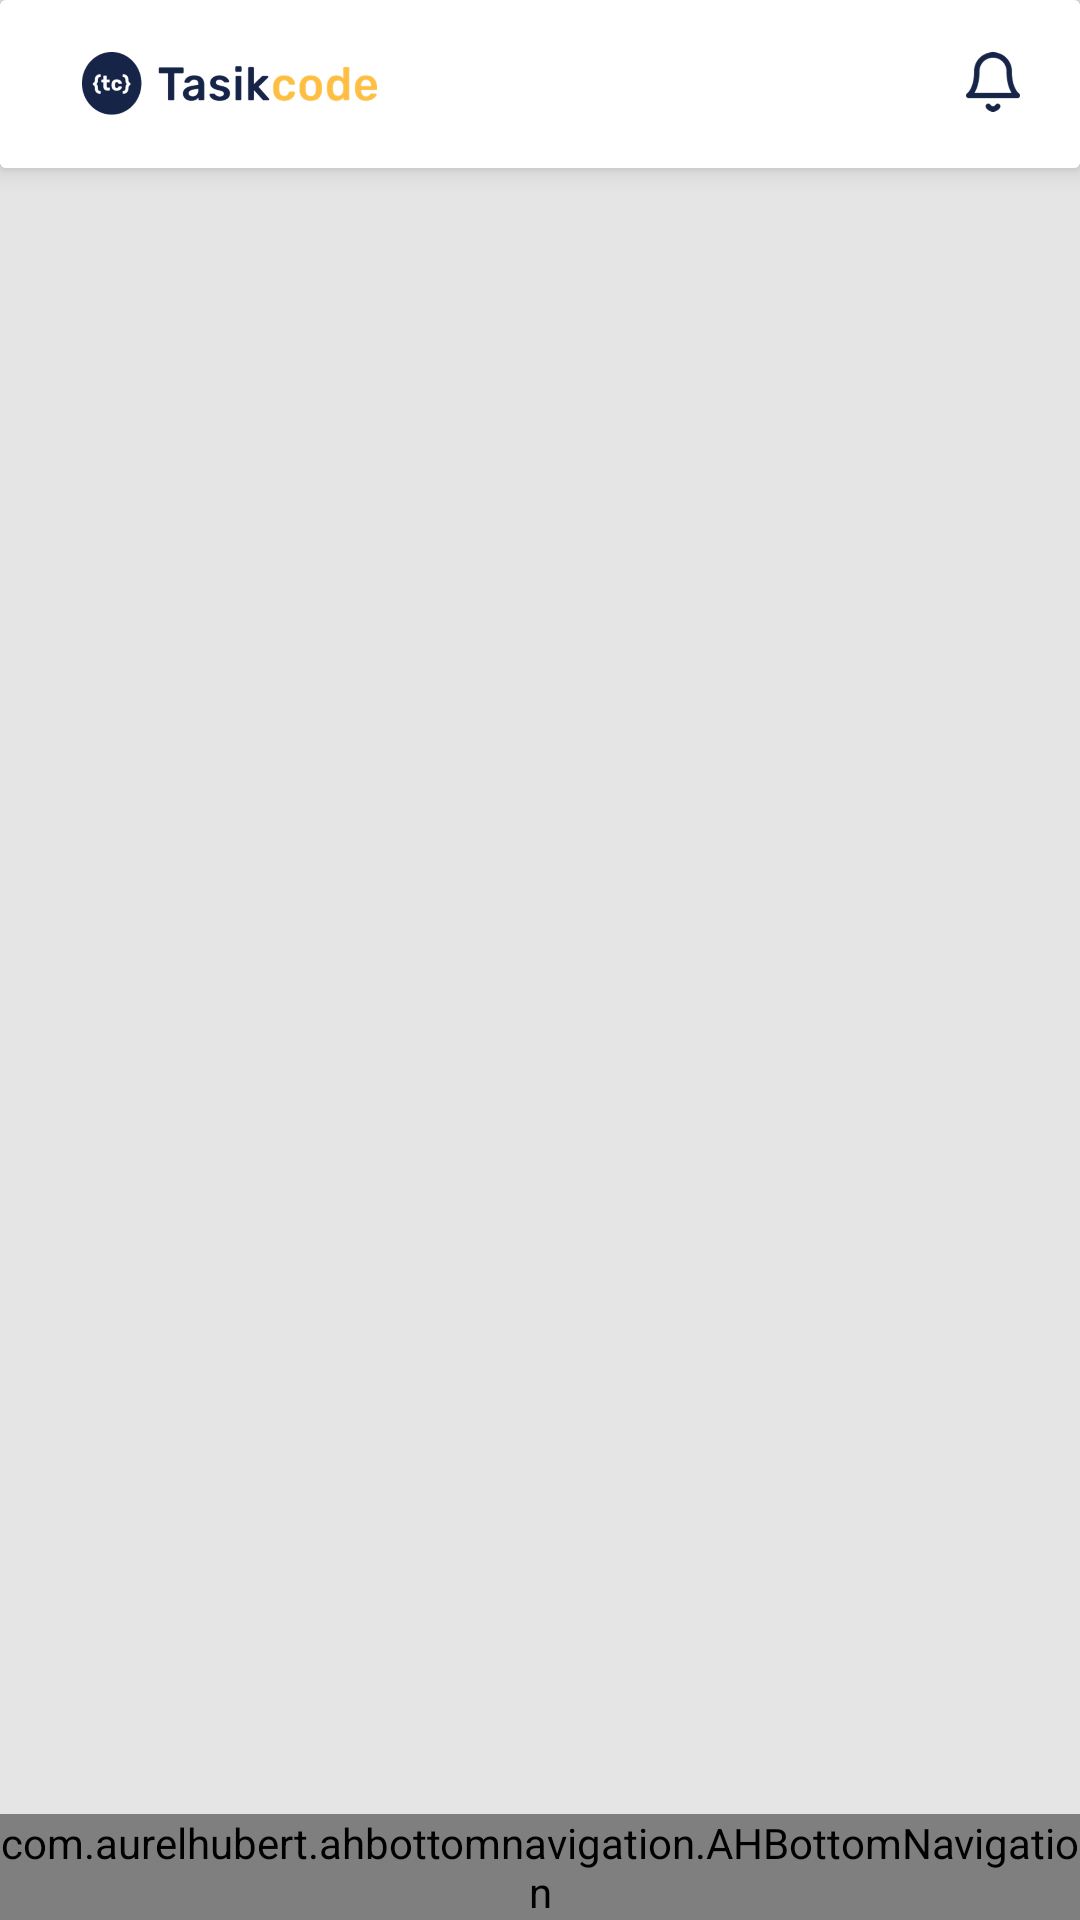

Locate icon controls on the screen. Image size 1080×1920, boxes as bbox=(x1, y1, x2, y2).
bell: bbox=(966, 52, 1020, 112)
